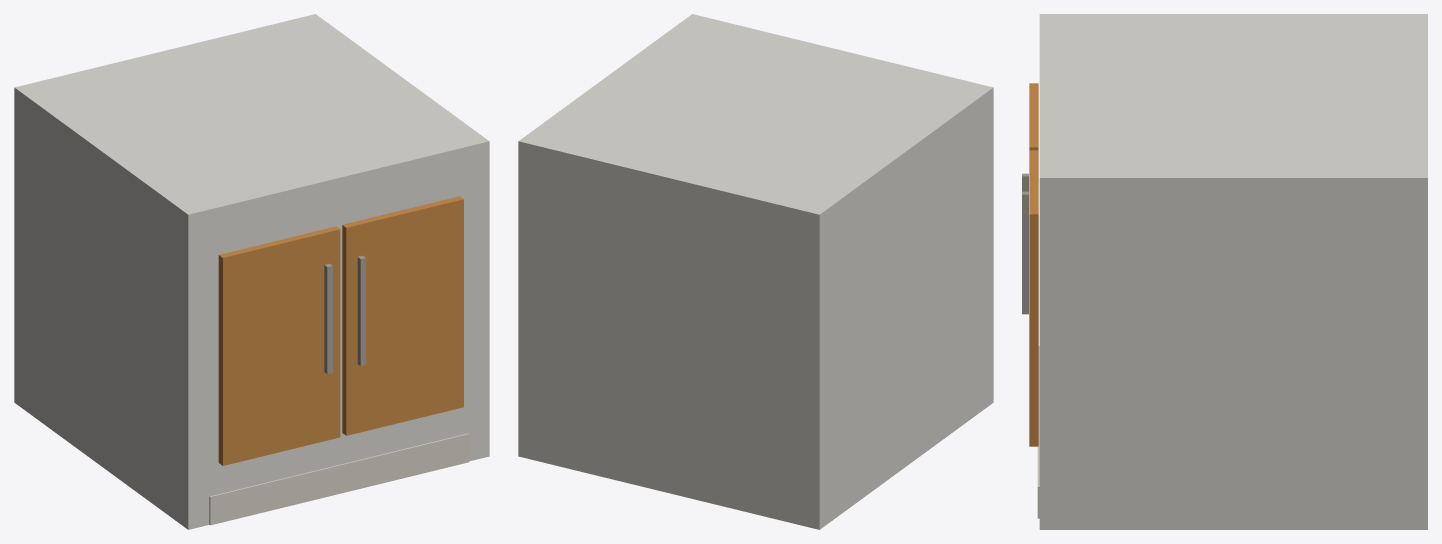
The model's file is flatBaseDoorDouble.glb.
The picture shows the model from 3 angles, left to right: view 1: azimuth 30°, elevation 25°; view 2: azimuth 150°, elevation 25°; view 3: azimuth 270°, elevation 25°; orthographic projection. The views are drawn at different scales.
Parts seen in each view (by area): view 1: body, doorLeft, doorRight, toeKick, handle (×2); view 2: body; view 3: body, doorRight, handle, doorLeft.
Part boxes in pixels (<box>): body: <box>14,14,489,529</box>; doorLeft: <box>218,226,340,465</box>; doorRight: <box>342,196,463,435</box>; toeKick: <box>209,433,469,525</box>; handle (×2): <box>324,255,365,374</box>; body: <box>518,14,993,529</box>; body: <box>1039,14,1427,529</box>; doorRight: <box>1029,150,1038,446</box>; handle: <box>1022,191,1028,314</box>; doorLeft: <box>1029,83,1038,150</box>.
Size of the model in its own units: 1 by 1 by 1.04.
